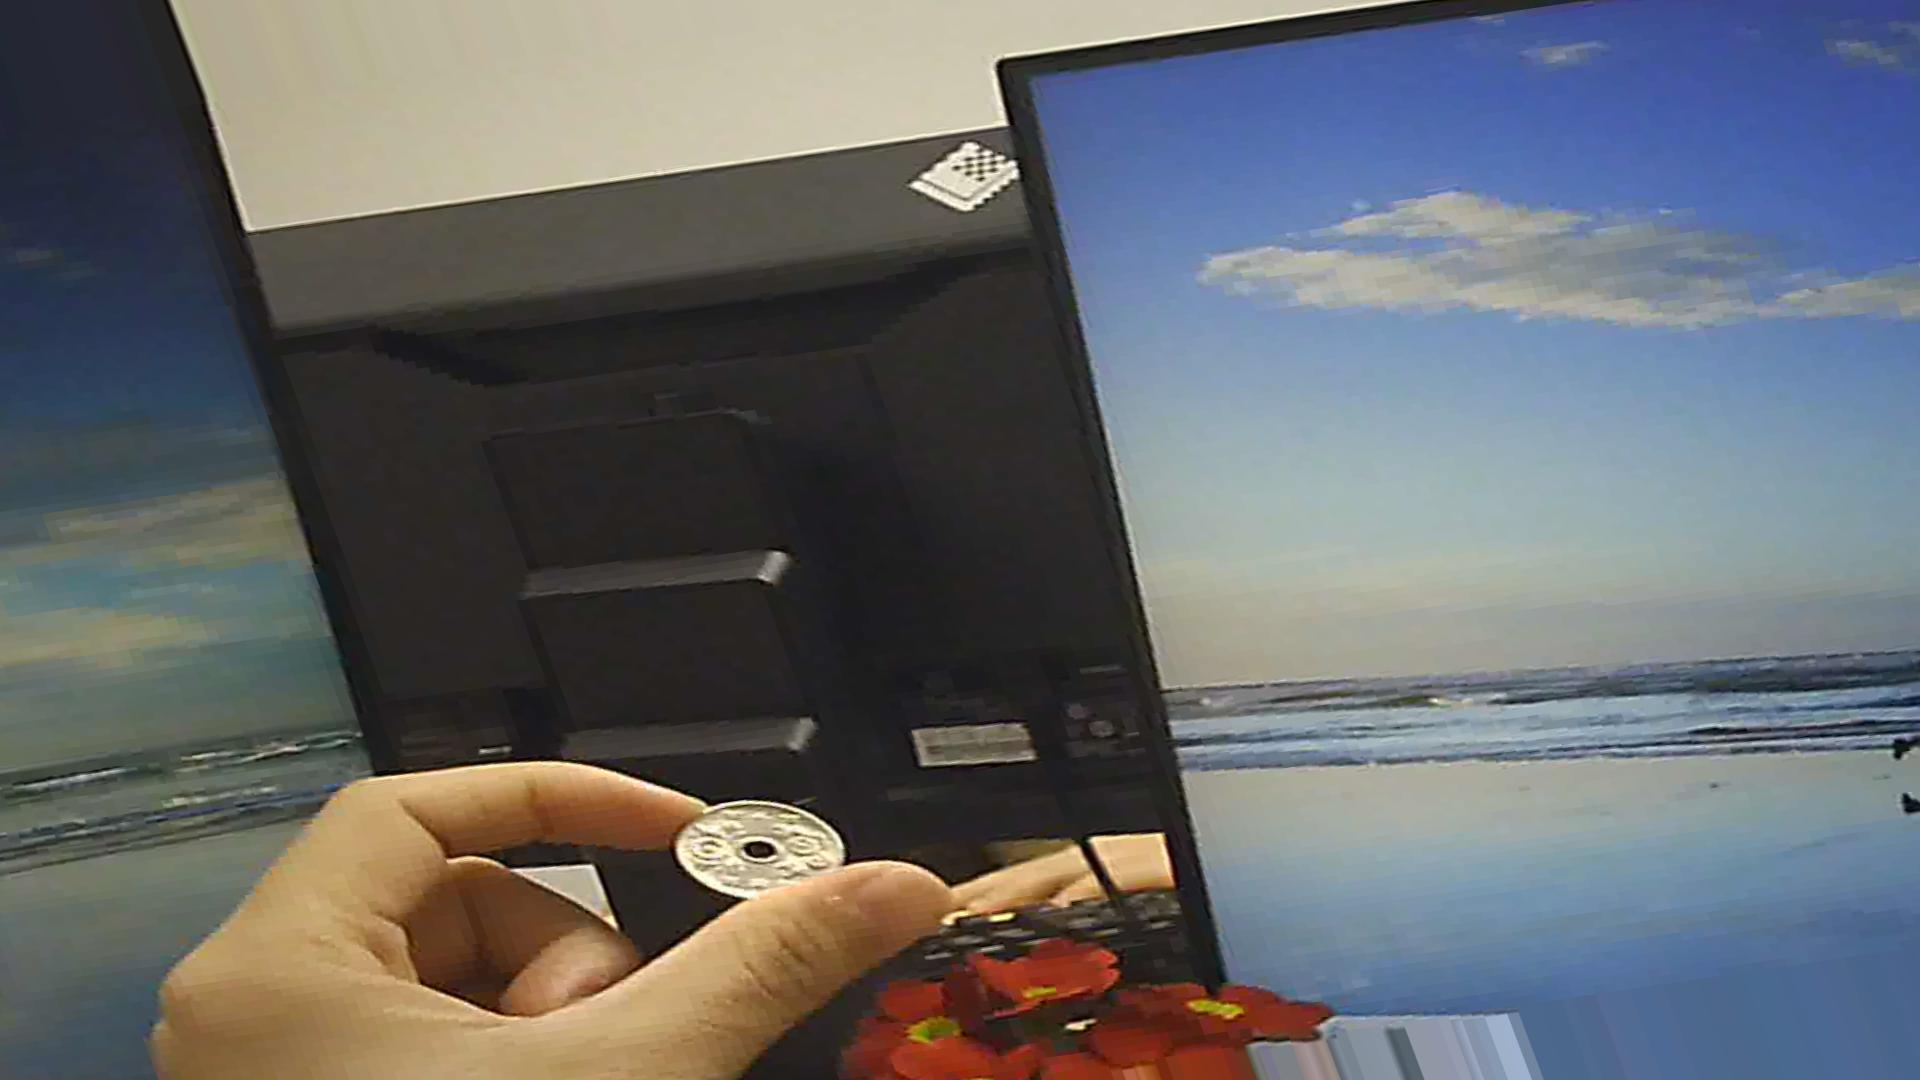50 Yen: (661, 790, 851, 905)
